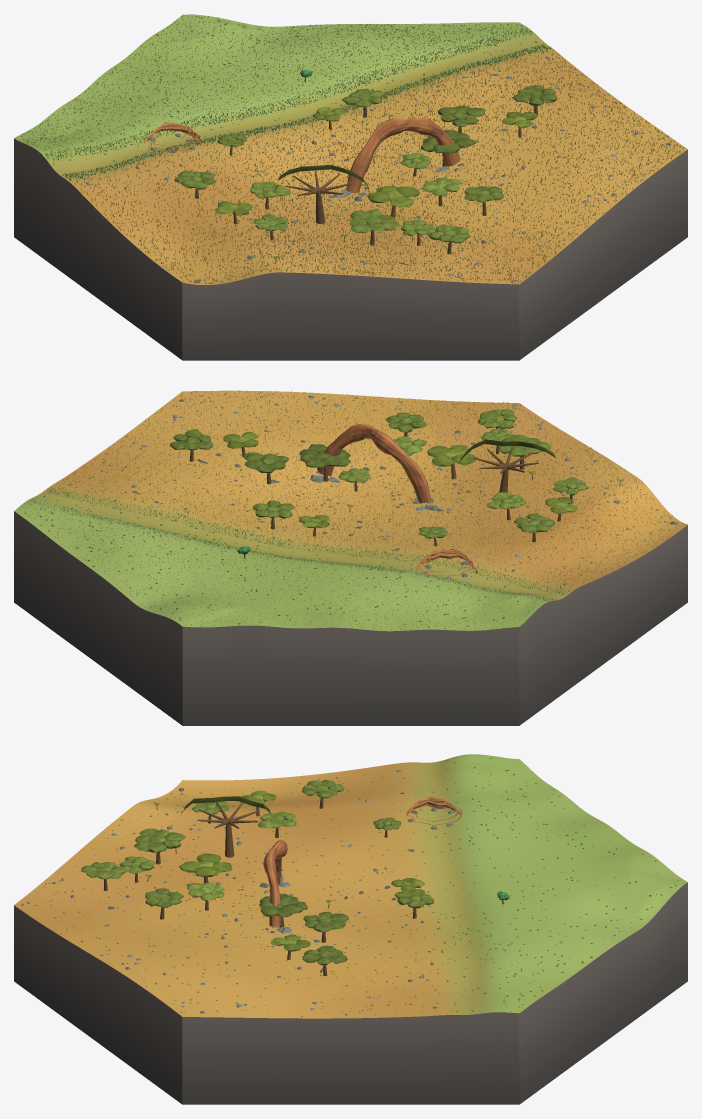
3 renders of one model, top to bottom at view 1: azimuth 30°, elevation 25°; view 2: azimuth 150°, elevation 25°; view 3: azimuth 270°, elevation 25°, orthographic.
Parts seen in each view (by area): view 1: terrain, hex_side_cut, wildflowers, broadleaf_canopy, shrubs, rock_escarpments, boulders, trunks, branches; view 2: terrain, hex_side_cut, wildflowers, broadleaf_canopy, shrubs, rock_escarpments, boulders, trunks, branches; view 3: terrain, hex_side_cut, broadleaf_canopy, shrubs, rock_escarpments, boulders, trunks, branches.
Boxes of the visible parts, x1,y1,x2,y2 form: terrain: (14, 14, 687, 284); hex_side_cut: (14, 138, 687, 360); wildflowers: (20, 15, 683, 284); broadleaf_canopy: (174, 69, 557, 258); shrubs: (32, 16, 680, 283); rock_escarpments: (143, 118, 460, 193); boulders: (86, 56, 671, 283); trunks: (195, 77, 537, 262); branches: (285, 74, 494, 264); terrain: (14, 390, 687, 631); hex_side_cut: (14, 511, 687, 725); wildflowers: (20, 390, 683, 630); broadleaf_canopy: (169, 409, 623, 554); shrubs: (20, 392, 671, 629); rock_escarpments: (317, 424, 477, 575); boulders: (68, 395, 677, 585); trunks: (189, 426, 620, 558); branches: (135, 446, 575, 493); terrain: (14, 754, 687, 1018); hex_side_cut: (14, 882, 687, 1104); broadleaf_canopy: (81, 779, 509, 965); shrubs: (27, 758, 678, 1016); rock_escarpments: (263, 797, 462, 926); boulders: (21, 769, 455, 1015); trunks: (103, 798, 503, 976); branches: (197, 792, 423, 976).
Bounding box in the file's own units: 4330 × 1175 × 5000.
